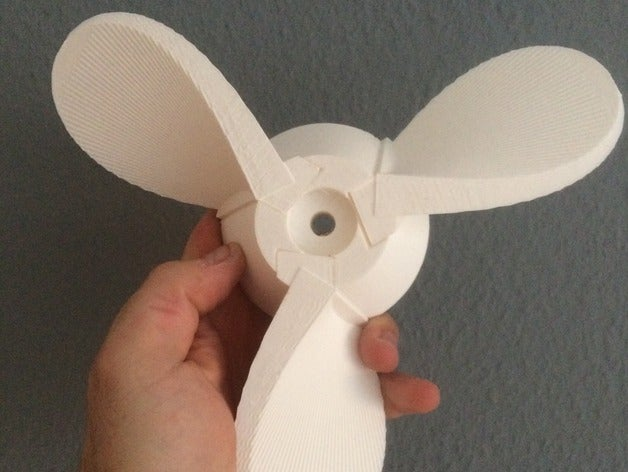Good: (36, 9, 628, 472)
